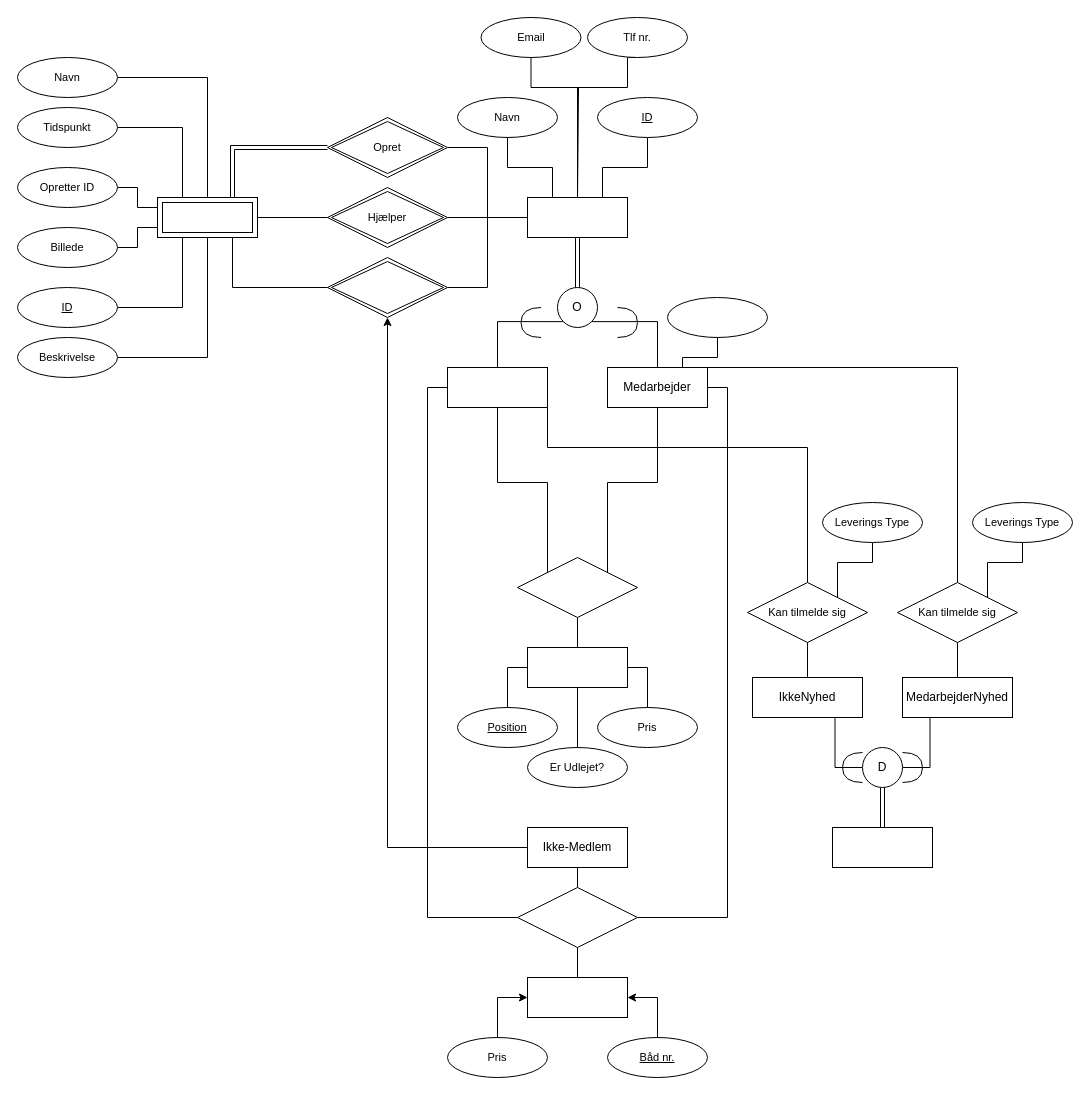
The diagram is 1090 pixels wide and 1095 high, and some of its shapes have lost their labels. Here are the shapes that lost their labels. From the top down, the centre of each, then its label:
point (207, 217): Arrangementer
point (577, 217): Klub Person
point (387, 287): Tilmeld
point (717, 317): Løn
point (497, 387): Medlem
point (577, 587): Har en
point (577, 667): Bådplads
point (882, 847): Nyhedsbrev
point (577, 917): Kan leje en
point (577, 997): Udlejningsbåd
